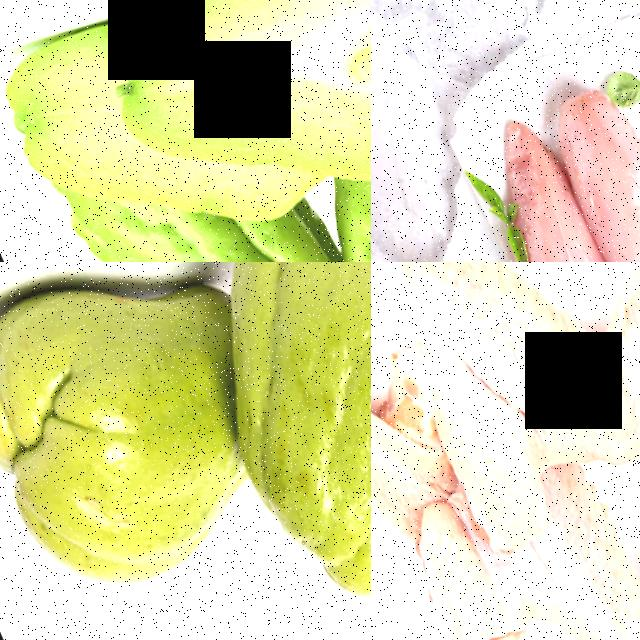chayote: (0, 262, 269, 623), (145, 262, 371, 629), (60, 0, 371, 222), (95, 186, 371, 262)
chicken breast: (437, 124, 640, 262), (525, 54, 640, 262)
chicken wing: (371, 262, 640, 561), (395, 426, 640, 640), (371, 330, 475, 581)
